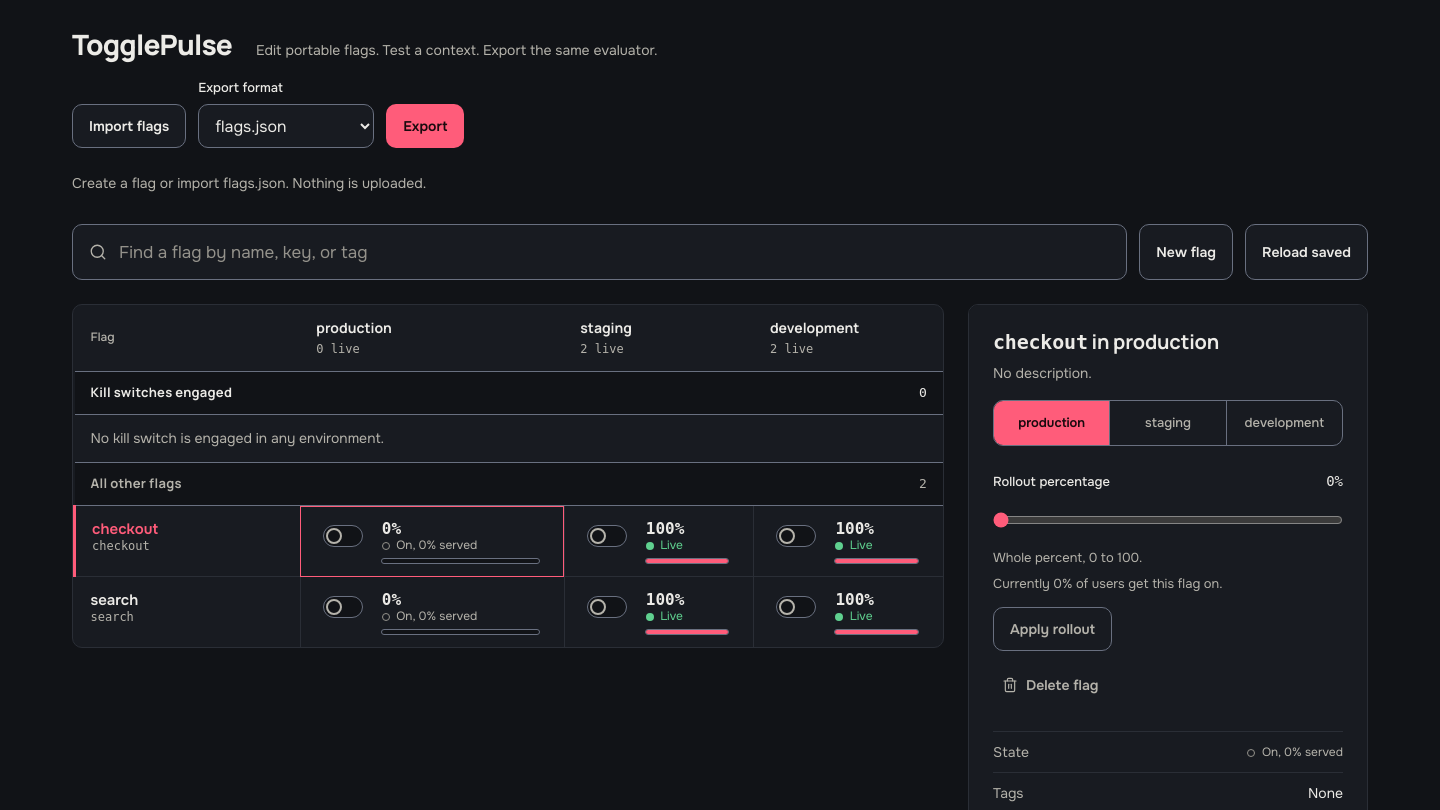
local switchboard › warns before switching flag with unsaved details and needs no warning when nothing changed
Click the button with aria-label "Open search in production": (460, 607) [373,585,548,629]
(page scrolled)
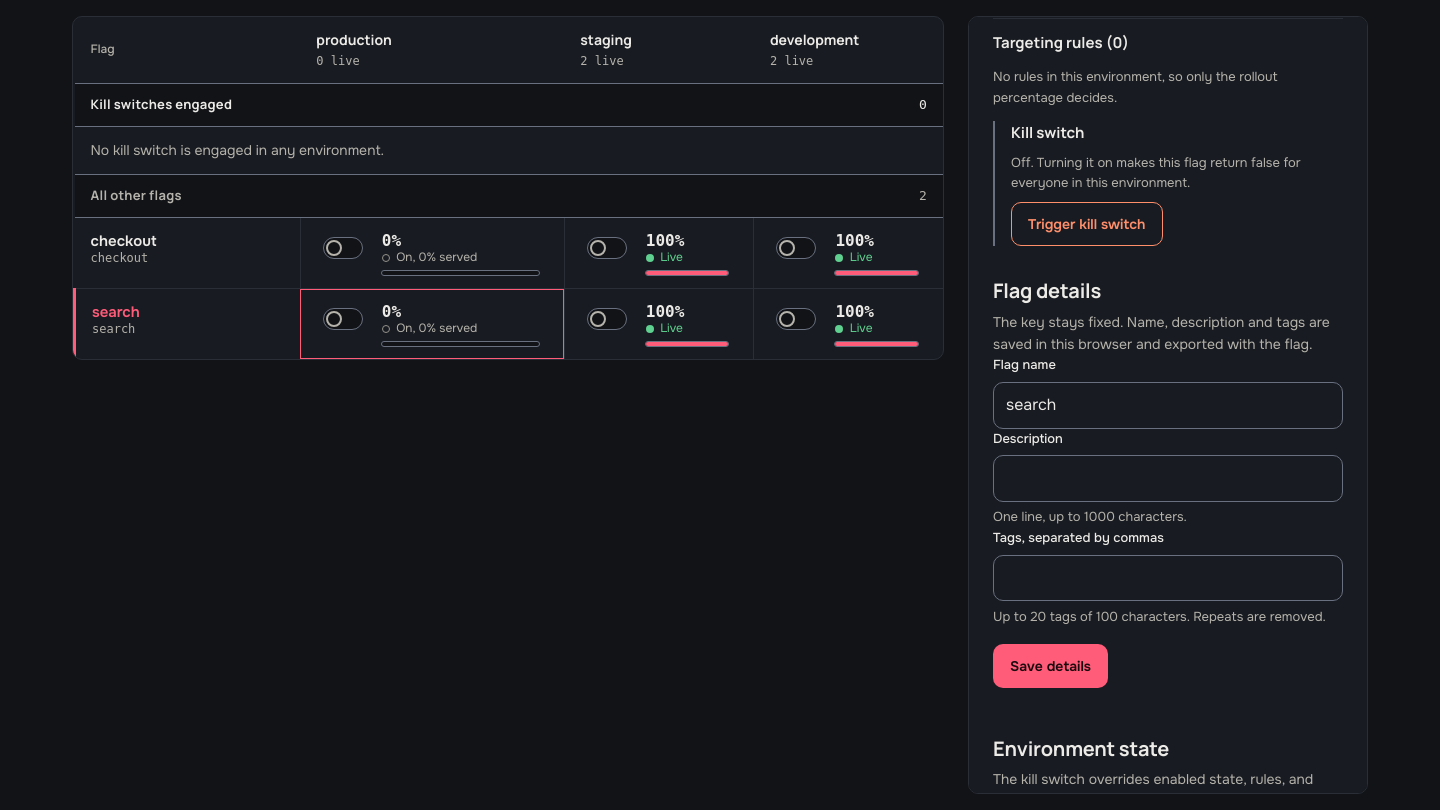
Now the field labelled "Flag name" holds "search"
Replace the text in the field labelled "Flag name" with "Search v2": (1168, 405) [993,382,1343,429]
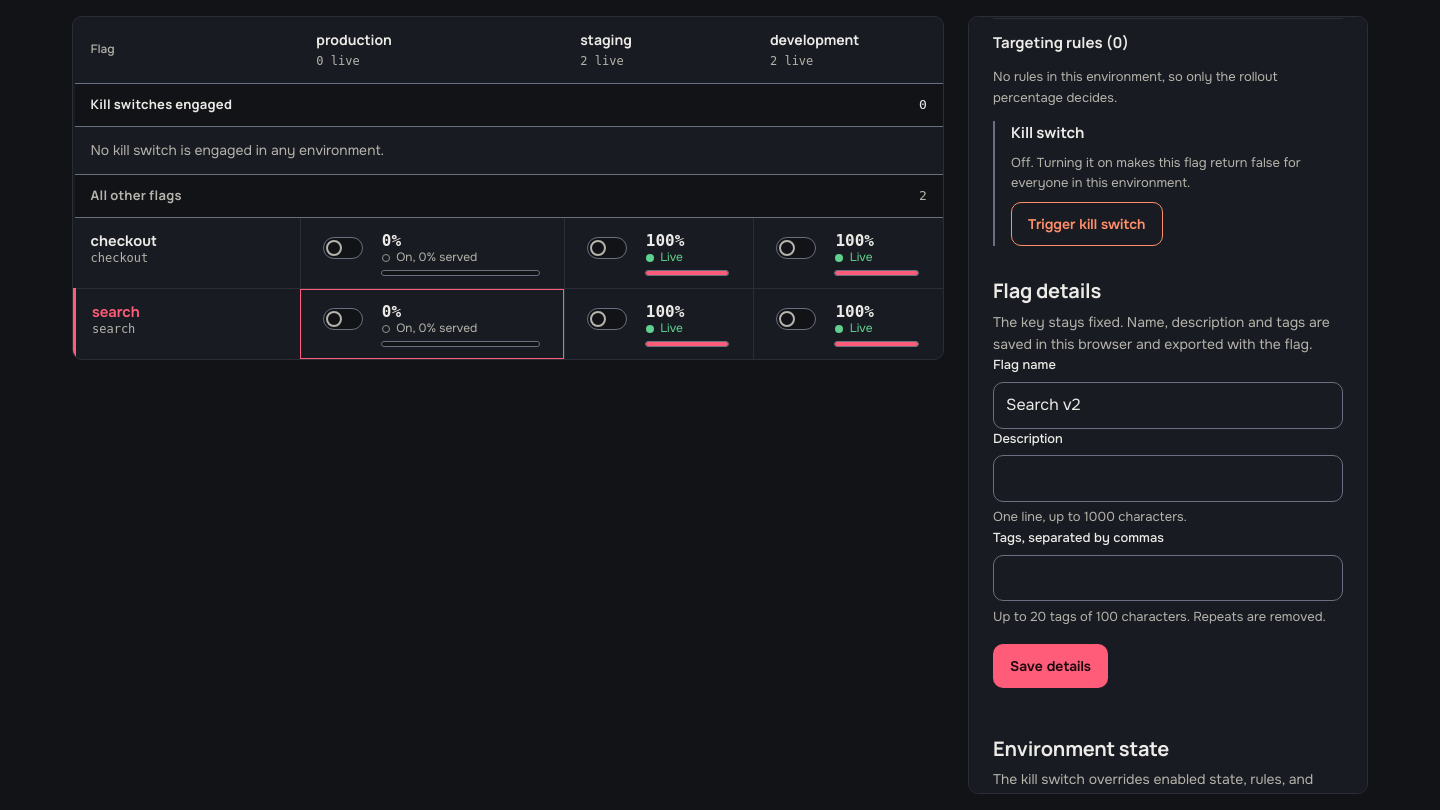
Click the button with aria-label "Open checkout in production": (460, 248) [373,226,548,270]
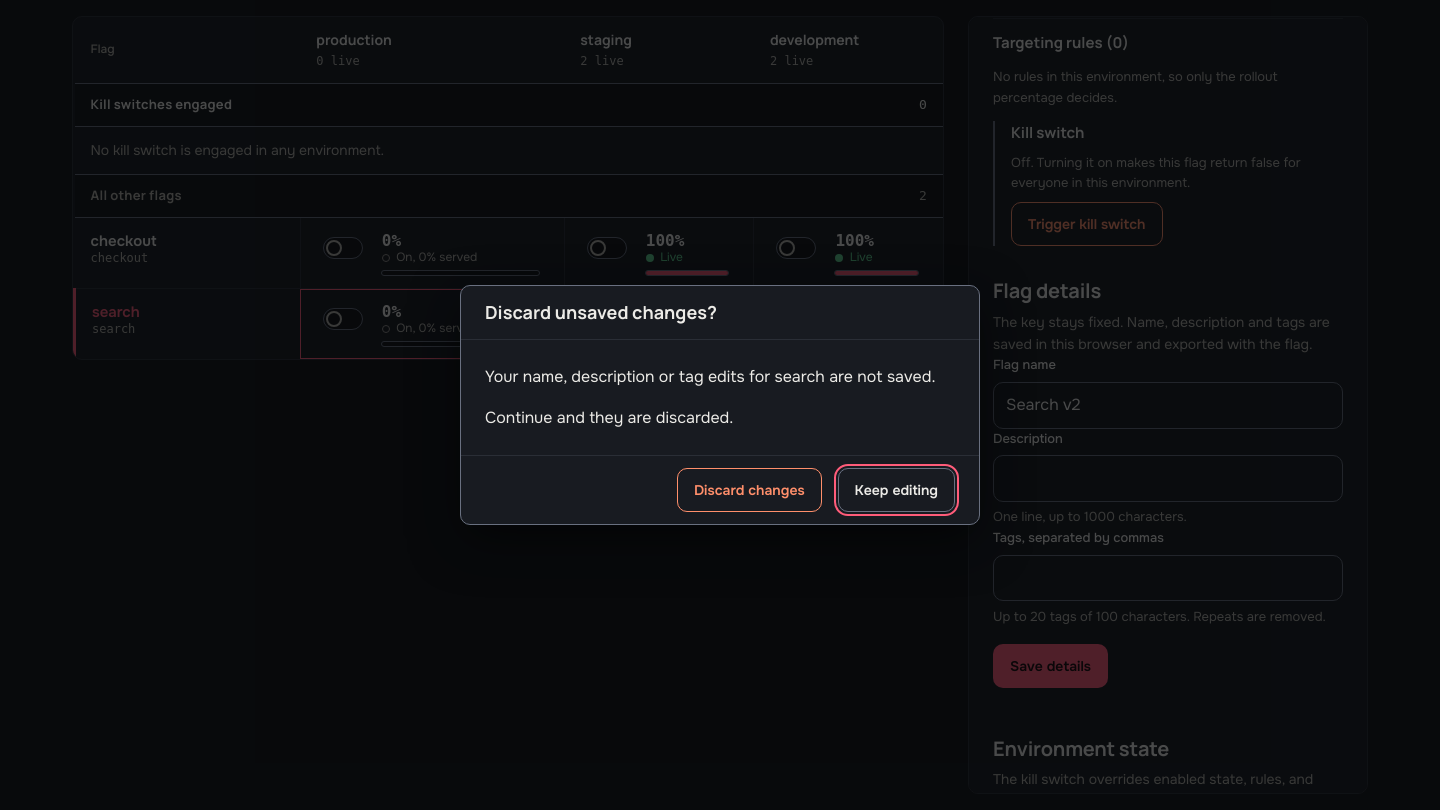
Now the dialog shows "Your name, description or tag edits for search are not saved.", box [485,366,936,387]
Click the button "Discard changes": (749, 490) [677,468,822,512]
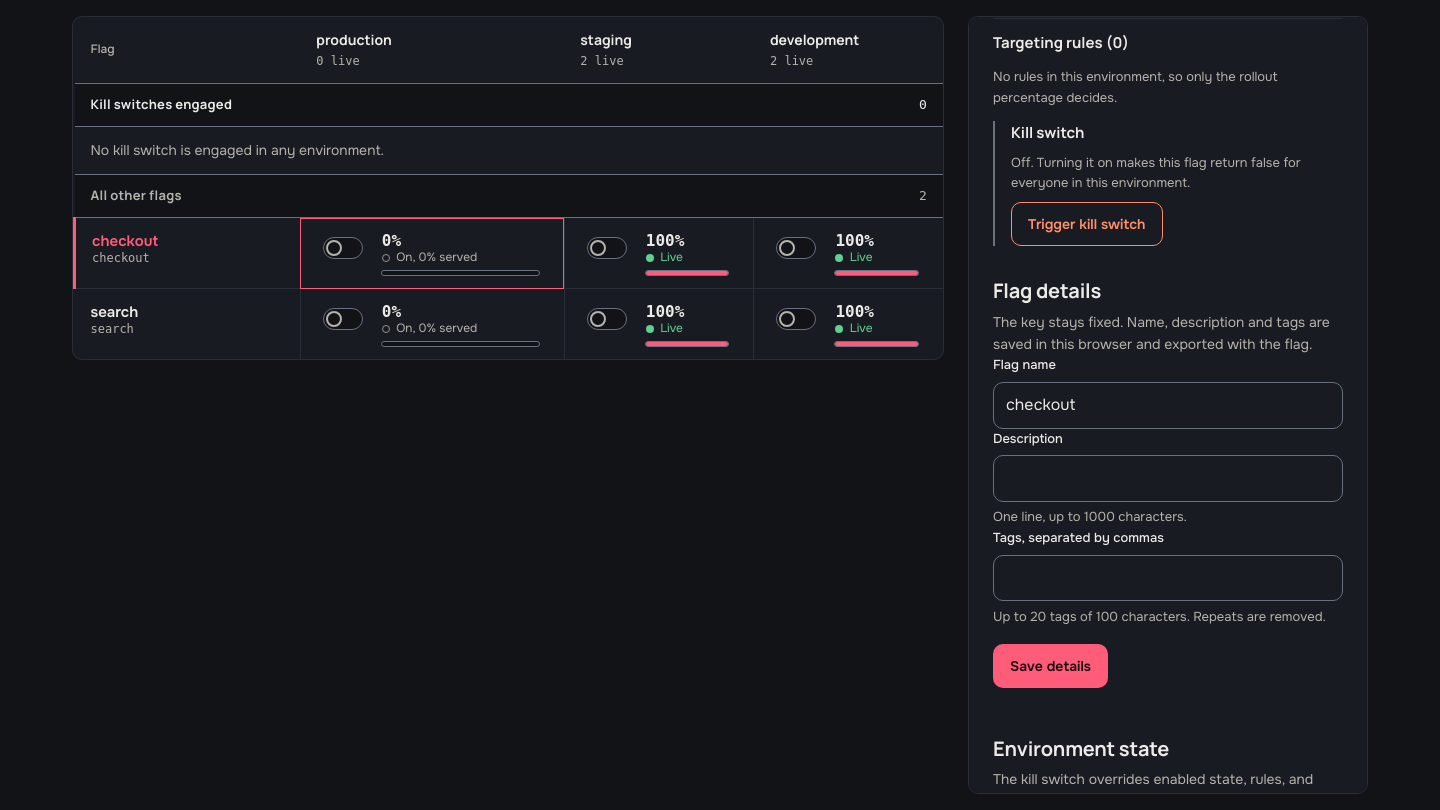
Now the field labelled "Flag name" holds "checkout", box [993,382,1343,429]
